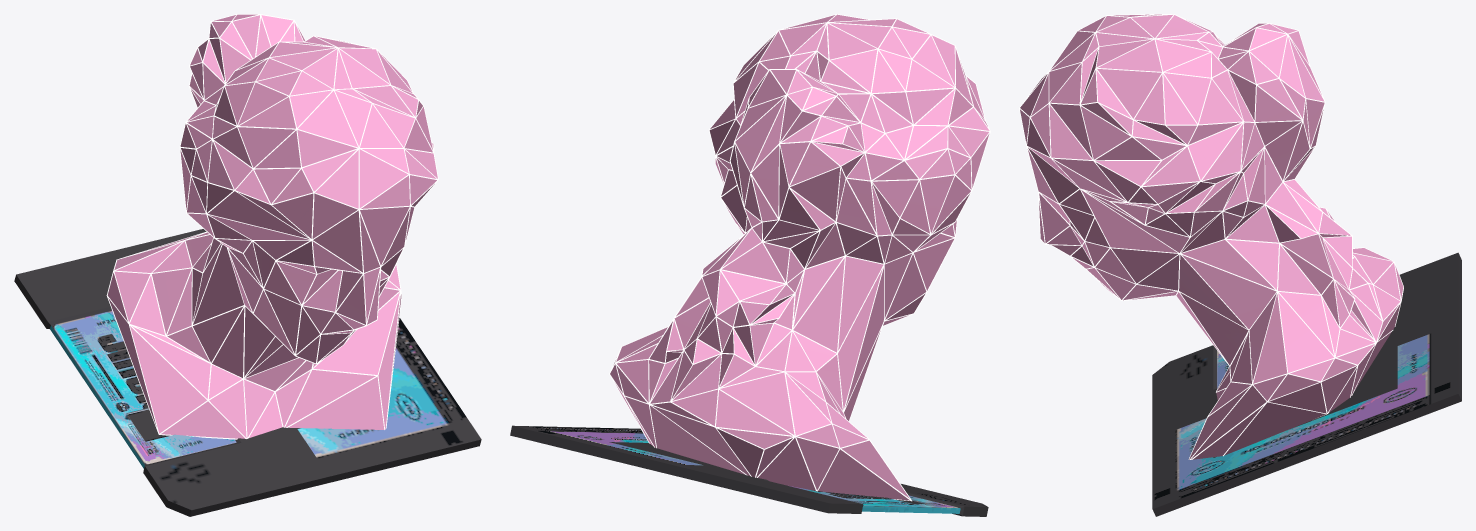
File: Venus_01_Floating.glb
3 views of the same model, side by side, from view 1: azimuth 30°, elevation 25°; view 2: azimuth 150°, elevation 25°; view 3: azimuth 270°, elevation 25° (orthographic). The views are drawn at different scales.
Parts seen in each view (by area): view 1: Venus_01_Floating, Computer_FloppyDisk_Floating, Venus_Floating; view 2: Venus_01_Floating, Venus_Floating, Computer_FloppyDisk_Floating; view 3: Venus_01_Floating, Computer_FloppyDisk_Floating, Venus_Floating.
Part boxes in pixels (x1,y1,x2,y2): Venus_01_Floating: (107, 14, 437, 438); Computer_FloppyDisk_Floating: (14, 229, 481, 516); Venus_Floating: (106, 14, 438, 439); Venus_01_Floating: (610, 14, 989, 500); Venus_Floating: (609, 14, 990, 501); Computer_FloppyDisk_Floating: (510, 425, 988, 516); Venus_01_Floating: (1020, 14, 1403, 459); Computer_FloppyDisk_Floating: (1152, 252, 1461, 516); Venus_Floating: (1019, 14, 1403, 459).
Bounding box in the file's own units: 2.51 × 3.42 × 3.33.
Materials: 3 (3 with a texture image).
